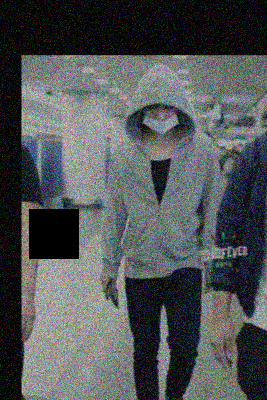mask_weared_incorrect: (142, 102, 179, 135)
